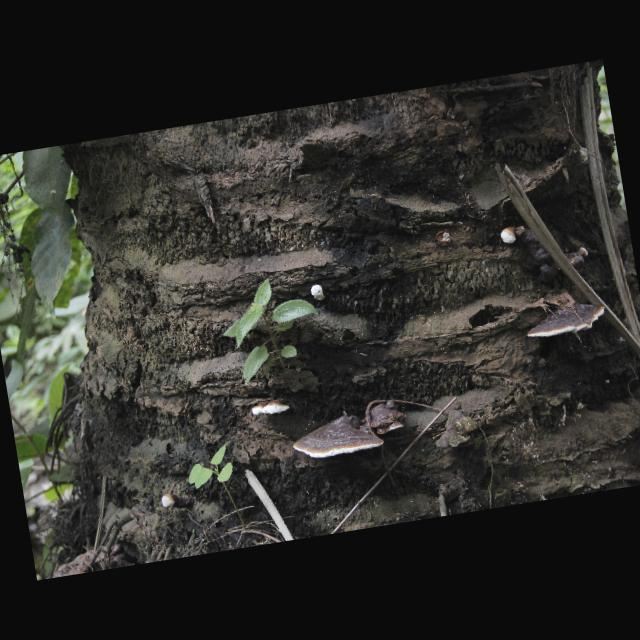ganoderma: (291, 410, 389, 465), (517, 216, 587, 286), (523, 299, 611, 343), (362, 399, 412, 440), (252, 396, 293, 419)
primordium: (500, 227, 520, 247), (311, 284, 329, 304), (162, 493, 180, 512), (578, 146, 591, 167), (579, 247, 591, 260)
